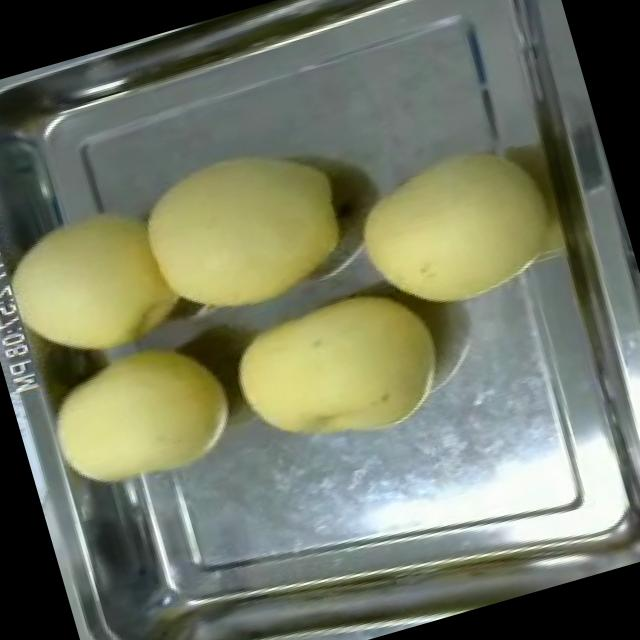Fruit: (202, 252, 464, 480), (119, 121, 365, 345), (328, 124, 570, 340), (27, 317, 255, 515), (0, 185, 195, 383)
